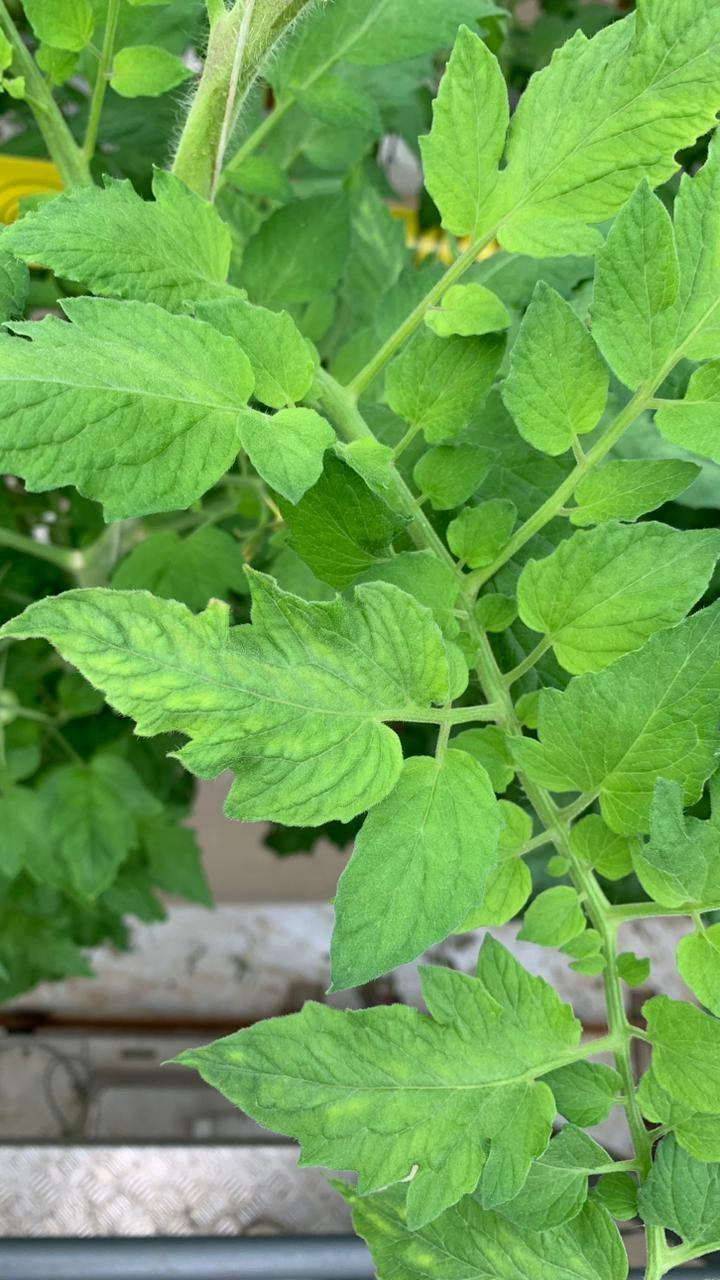Hoja: (0, 298, 255, 520), (510, 605, 718, 834), (332, 750, 502, 989), (590, 182, 680, 390), (502, 282, 610, 455), (280, 452, 408, 589), (385, 328, 505, 442), (195, 298, 315, 408), (498, 1125, 615, 1229), (632, 780, 720, 908), (642, 995, 720, 1111), (238, 408, 335, 501), (638, 1138, 720, 1248), (570, 460, 700, 525), (542, 1060, 622, 1128), (412, 445, 492, 510), (448, 498, 518, 568), (425, 282, 510, 336), (482, 1138, 492, 1156)
Hoja rugoso: (0, 568, 468, 829), (180, 938, 580, 1228), (420, 0, 716, 260), (0, 171, 240, 312), (518, 522, 718, 674), (340, 1185, 628, 1280), (455, 800, 532, 931), (518, 885, 585, 948)
Pedunculo rugoso: (172, 0, 312, 200)
